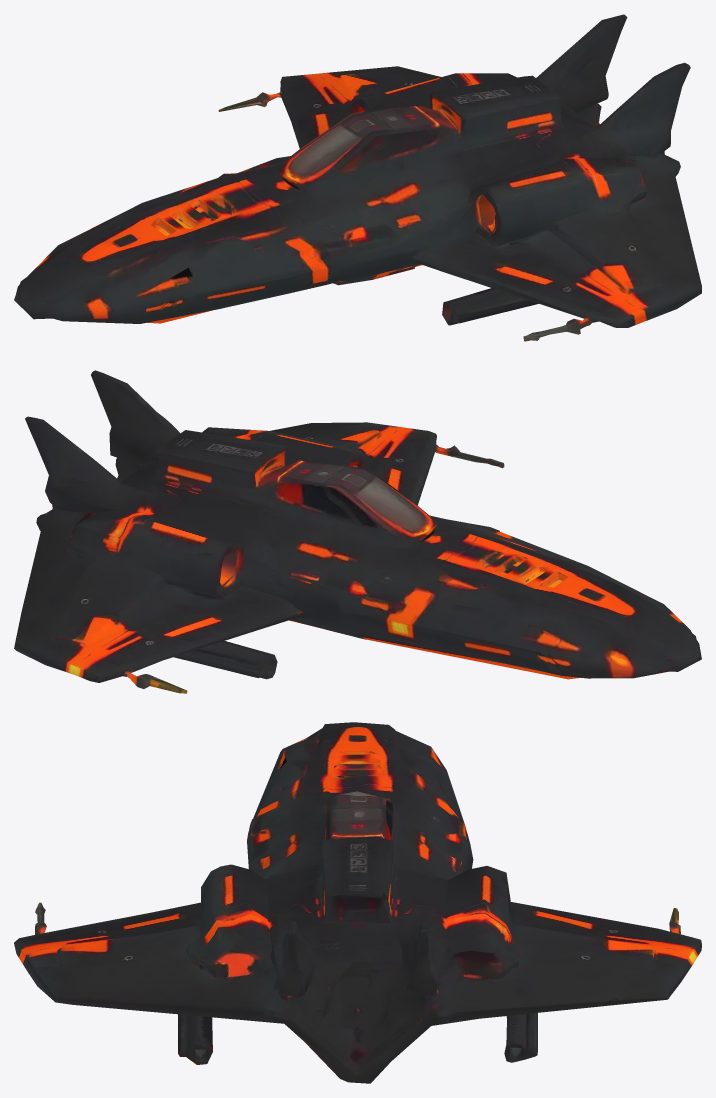
File: ship20.glb
3 views of the same model, one above another, from view 1: azimuth 30°, elevation 25°; view 2: azimuth 150°, elevation 25°; view 3: azimuth 270°, elevation 25° (orthographic). The views are drawn at different scales.
Parts seen in each view (by area): view 1: Mesh0; view 2: Mesh0; view 3: Mesh0.
Boxes of the visible parts, x1,y1,x2,y2 form: Mesh0: [14, 14, 701, 341]; Mesh0: [14, 370, 701, 693]; Mesh0: [14, 722, 701, 1083].
Bounding box in the file's own units: 1.9 × 0.4703 × 1.74.
Materials: 1 (1 with a texture image).
